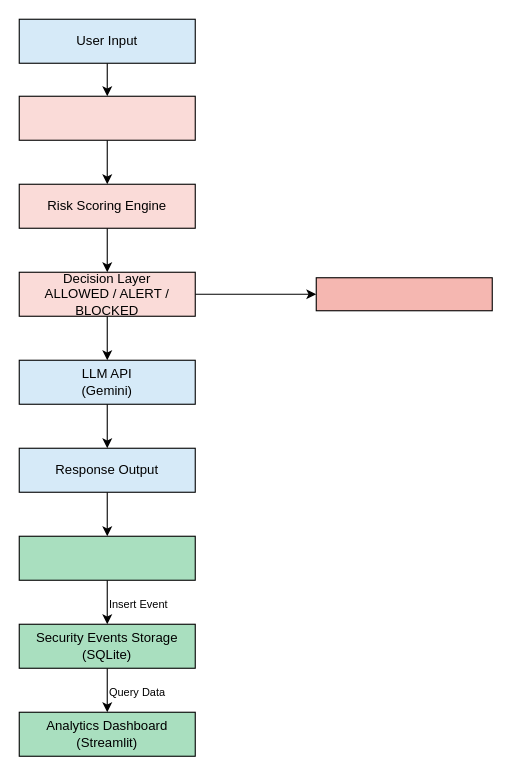
This 512x776 diagram has some shape labels left out. Here are the shapes that lost their labels. From the top down, the centre of each, then its label:
point (106, 117): Prompt Injection Scanner (llm-guard)
point (403, 294): Blocked Request No API Call
point (106, 557): Event Logging (JSON + SQLite)
